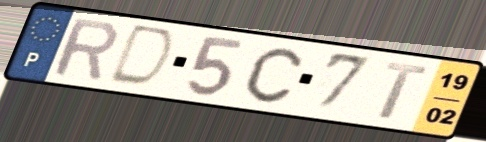5: (181, 34, 251, 98)
7: (314, 49, 377, 116)
C: (242, 46, 305, 105)
D: (103, 22, 179, 91)
R: (50, 16, 121, 84)
T: (377, 61, 432, 122)
